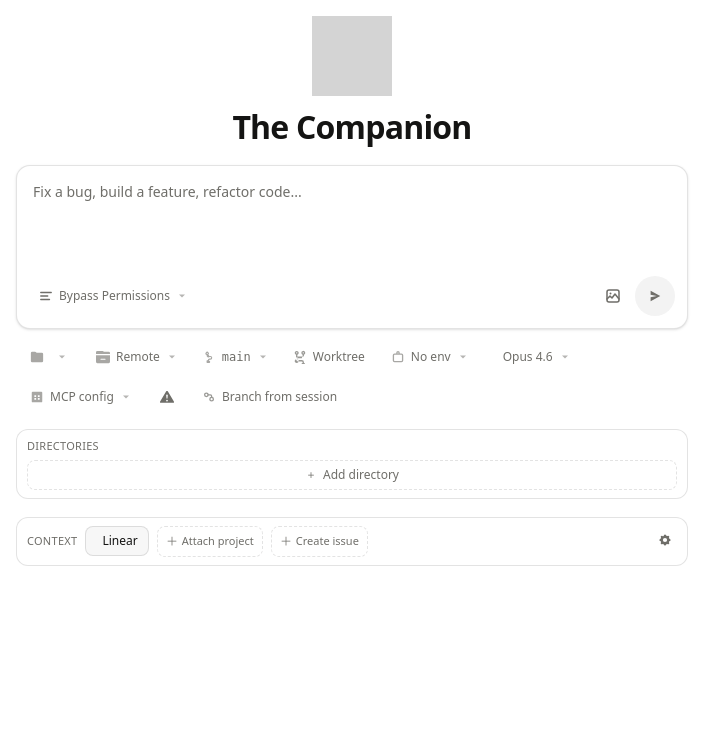
Scenario: HomePage › filters session table with search
This screenshot has width=705, height=749.
Expected: the text box with placeholder "Fix a bug, build a feature, refactor code..." is shown, [17,166,687,270]
Click the button "Branch from session": (270, 397) [192,381,347,413]
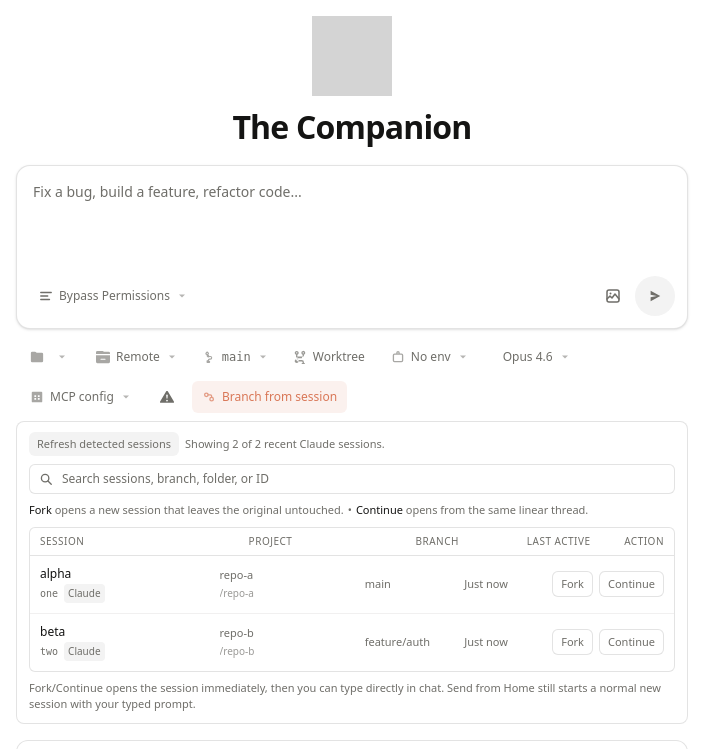
In the field with placeholder "Search sessions, branch, folder, or ID": (352, 479) [29,464,675,494], type "auth"
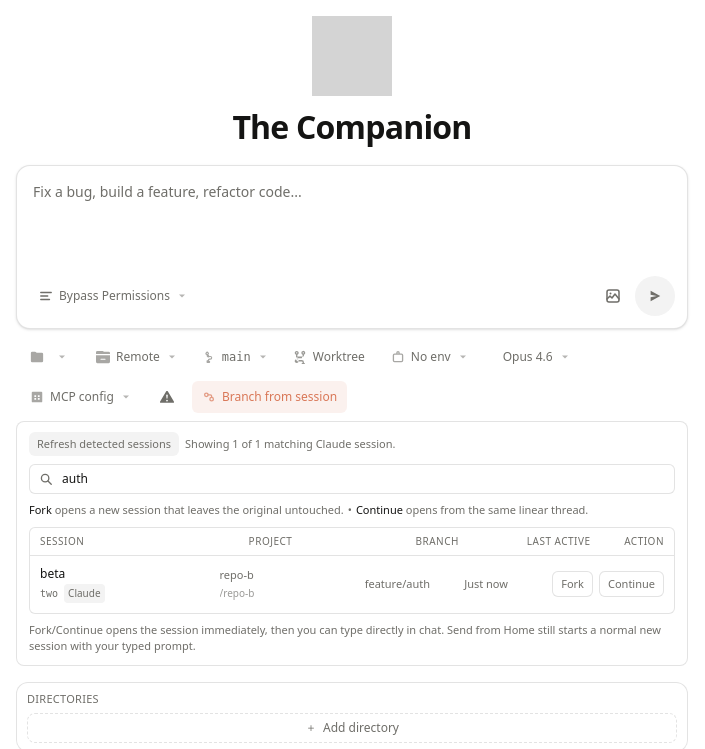
Expected: the button with aria-label "fork and open beta" is shown, [552,571,593,597]
Expected: the text "Showing 1 of 1 matching Claude session." is shown, [185,436,396,452]
